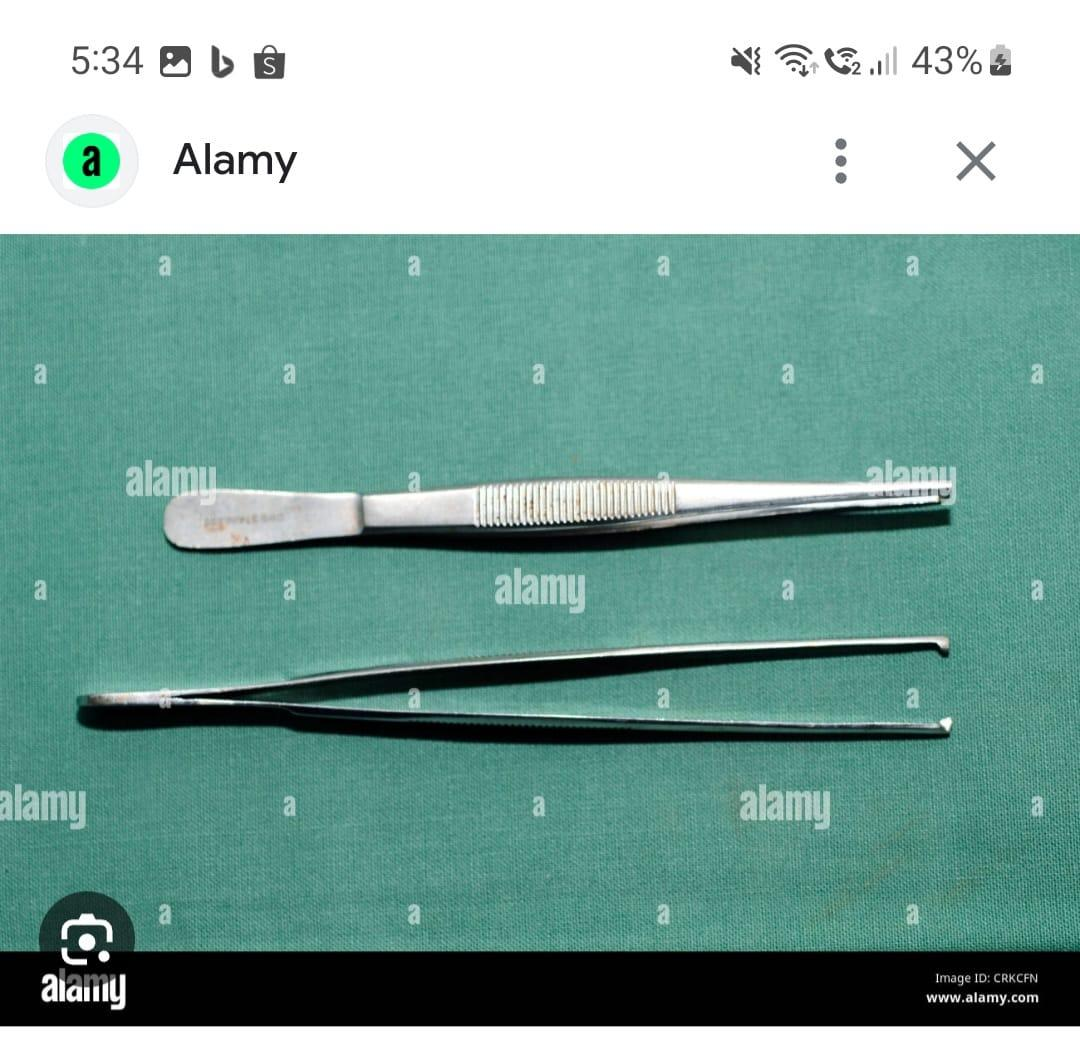Disscting Forceps: (53, 625, 998, 785), (110, 427, 977, 583)
